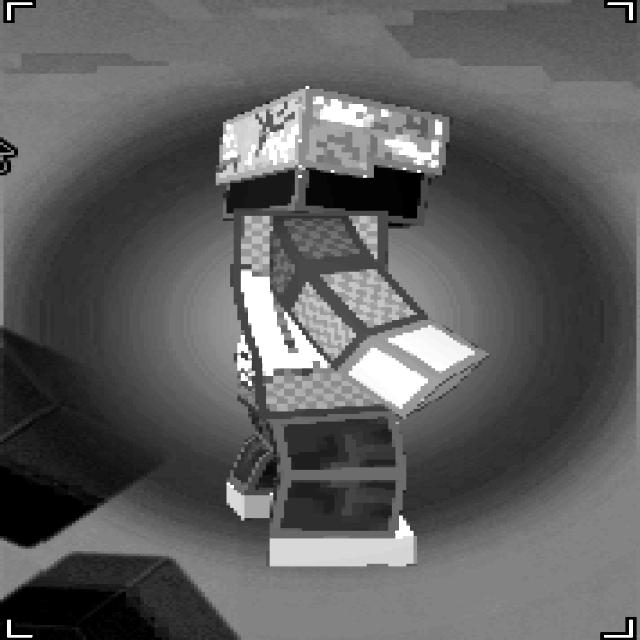Head: (211, 84, 453, 222)
Player: (212, 84, 489, 566)
